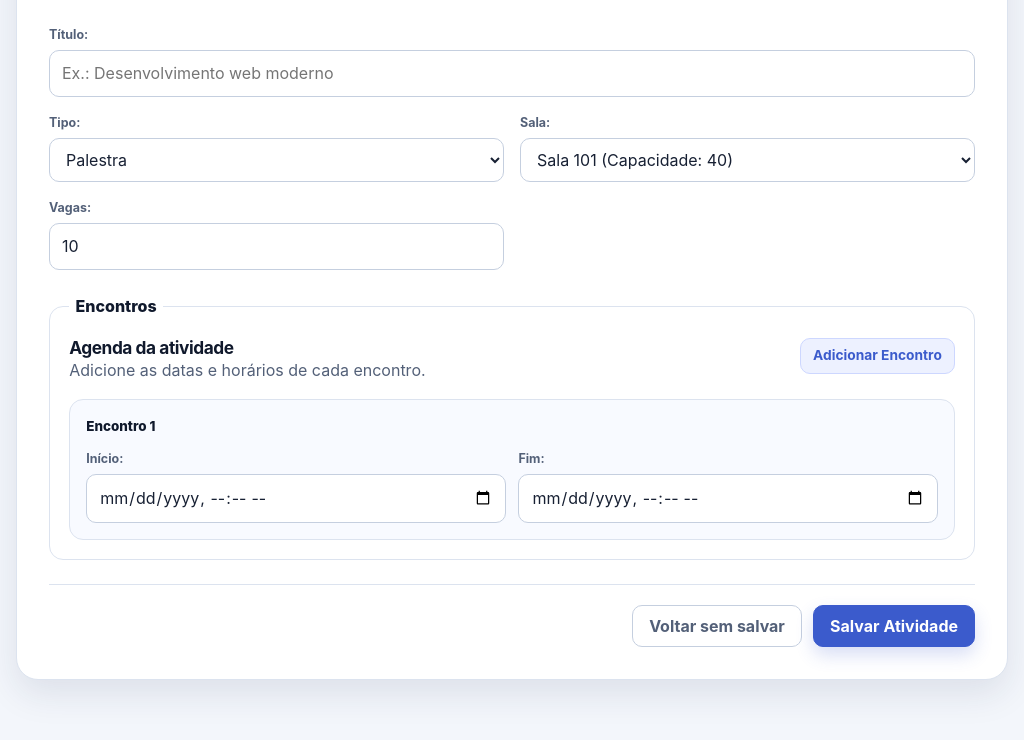
Test case: App Shell › permite adicionar e remover encontros dinamicamente
(page scrolled)
Expected: the field labelled "Título:" is shown, [49,50,975,97]
Click the button "Adicionar Encontro".
click(877, 356)  # box [800,338,955,374]
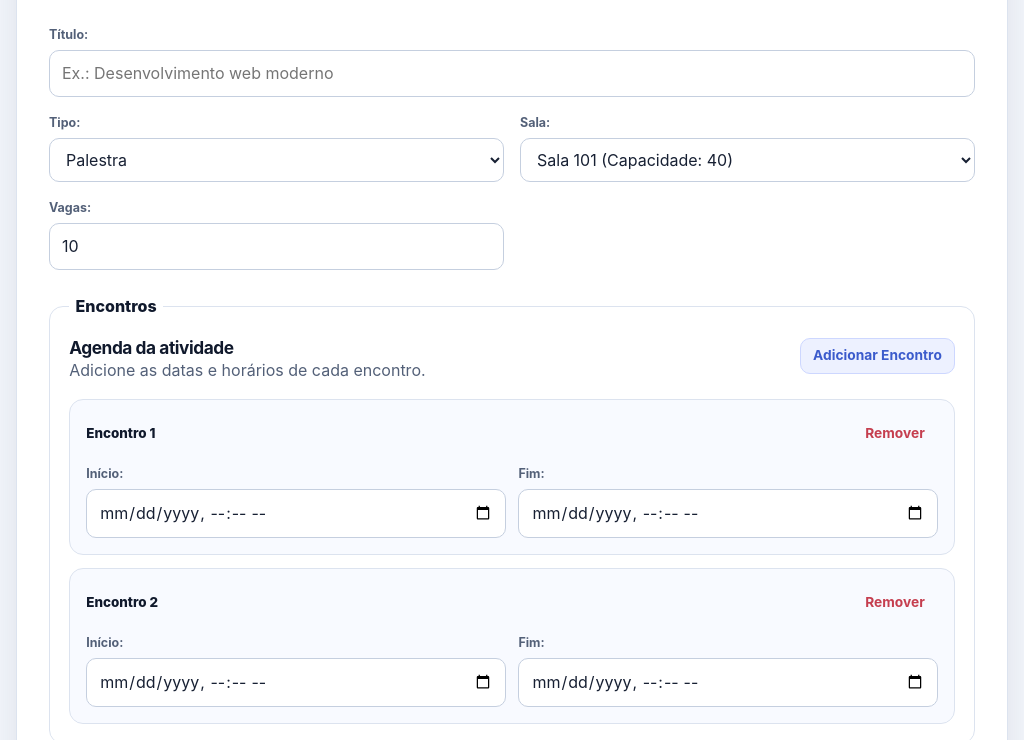
Expected: the number of fields labelled "Início:" is 2, [86,489,506,538]; [86,658,506,706]
Click the 1st button "Remover".
click(895, 434)  # box [852,416,938,452]
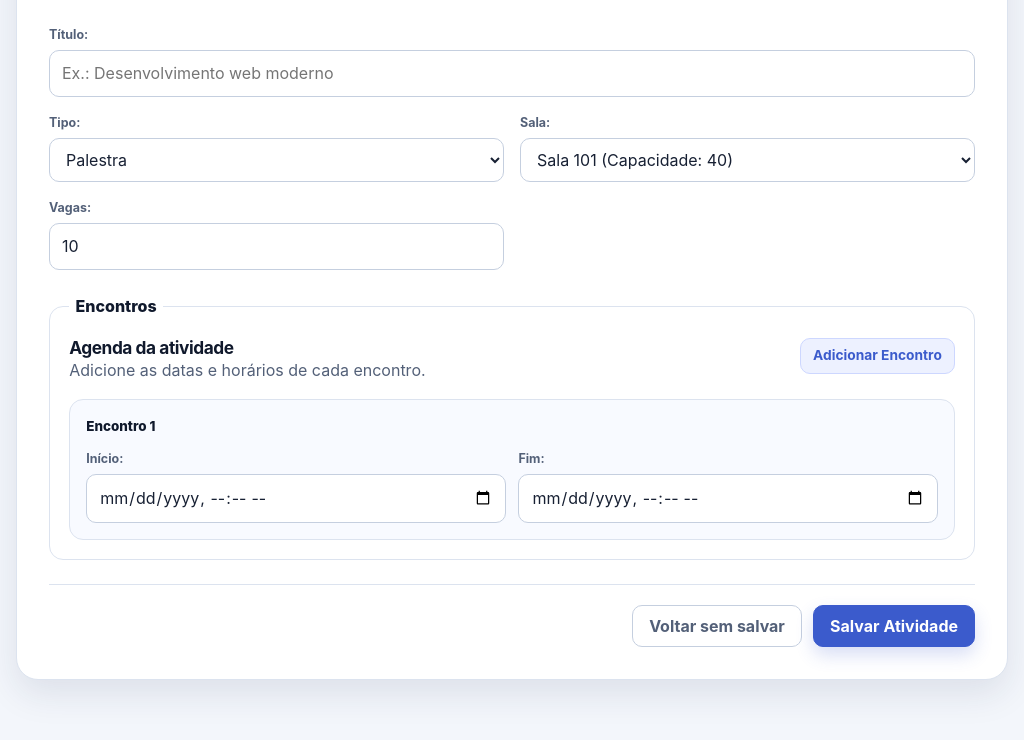
Expected: the number of fields labelled "Início:" is 1, [86,474,506,522]
